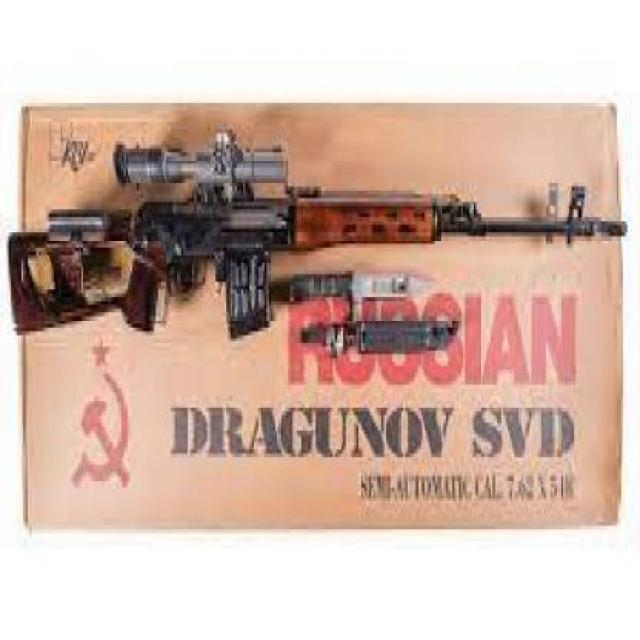weapon: (0, 125, 636, 350), (264, 261, 484, 328)
